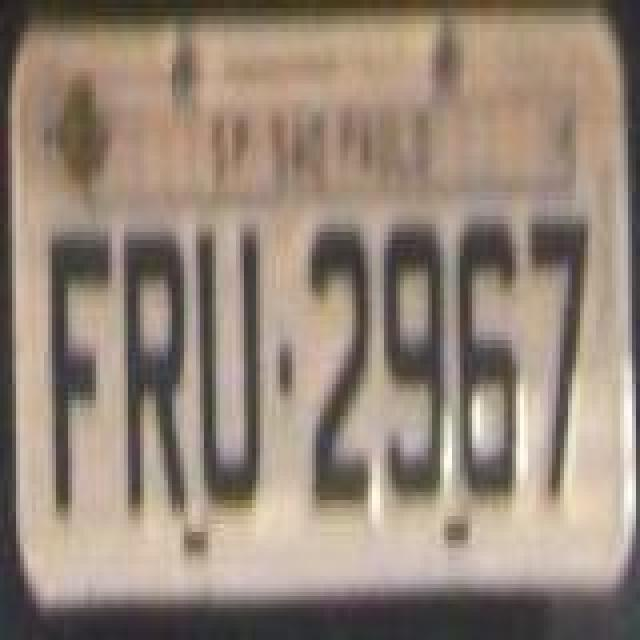2: (306, 212, 374, 508)
6: (456, 216, 520, 504)
7: (530, 206, 590, 498)
9: (384, 216, 448, 504)
F: (48, 232, 112, 520)
R: (122, 228, 190, 524)
U: (198, 220, 266, 516)
